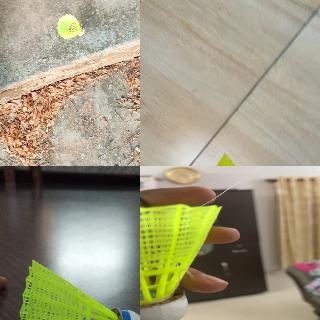shuttlecock: (140, 204, 223, 319), (13, 260, 139, 319), (57, 14, 85, 40), (200, 152, 243, 165)
